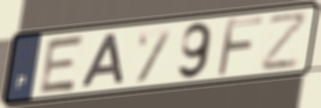7: (135, 25, 175, 85)
9: (176, 20, 216, 81)
A: (78, 31, 126, 90)
E: (36, 32, 88, 96)
F: (214, 14, 266, 79)
Z: (259, 9, 311, 74)
